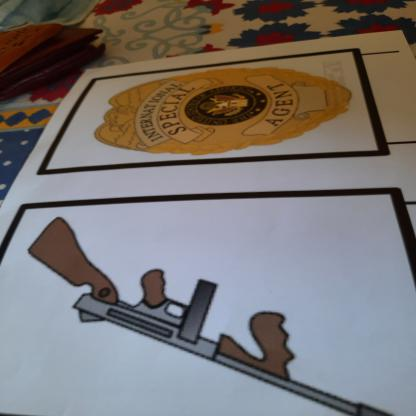Bootlegger: (25, 206, 416, 416)
G-man: (91, 63, 368, 166)
